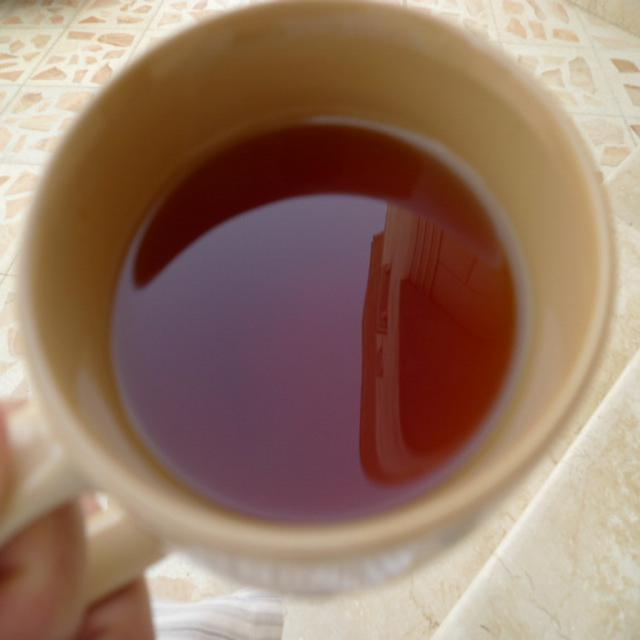Tea: (103, 122, 523, 520)
